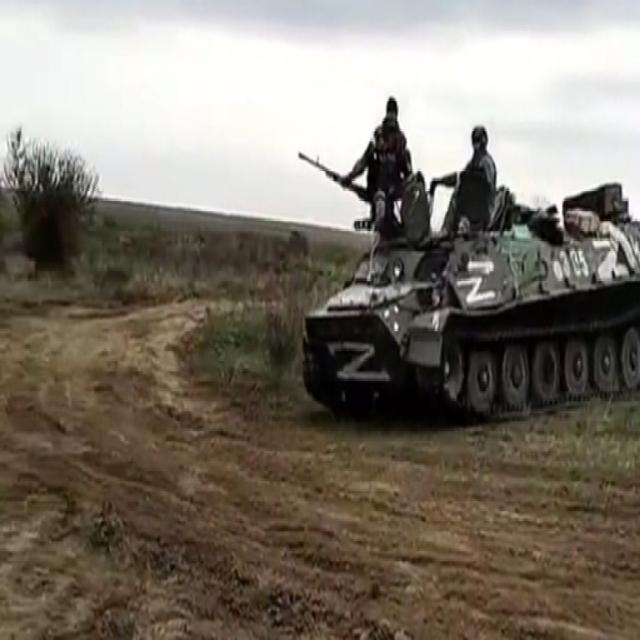APC-IFV: (296, 147, 636, 416)
